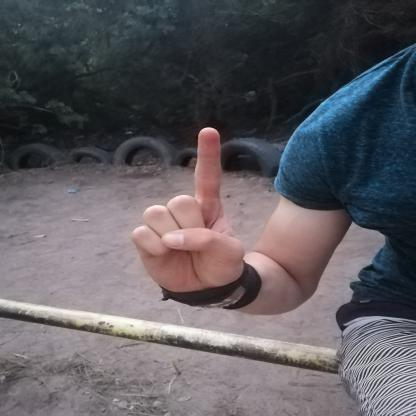BAA: (116, 117, 258, 304)
